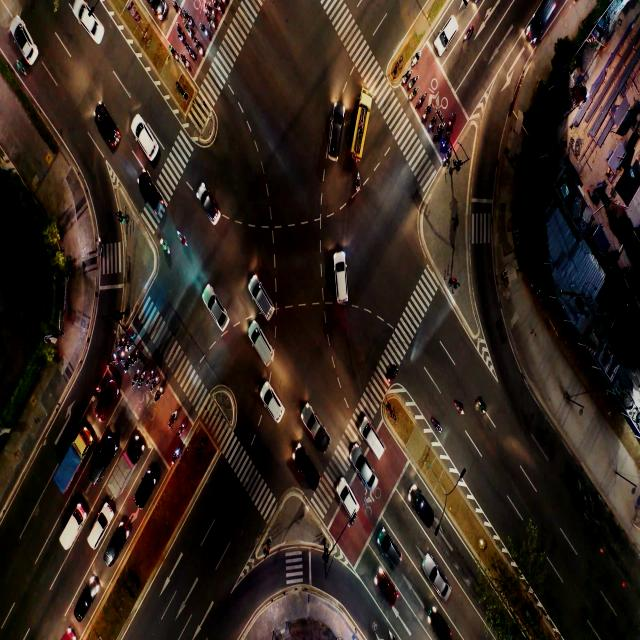bus: (354, 121, 366, 142)
car: (298, 455, 317, 488), (380, 540, 400, 567), (534, 6, 550, 32), (78, 584, 96, 607), (87, 18, 103, 42), (359, 463, 374, 488), (429, 570, 444, 592), (260, 292, 272, 319), (202, 195, 216, 217), (101, 119, 115, 141), (212, 302, 225, 325), (328, 128, 338, 157), (371, 432, 383, 456), (342, 489, 354, 512), (22, 32, 32, 59), (148, 189, 160, 211), (267, 396, 280, 416), (90, 453, 102, 474), (384, 582, 396, 602), (420, 501, 431, 521), (440, 24, 451, 44), (142, 474, 152, 496), (144, 131, 153, 155), (258, 340, 268, 361), (337, 276, 346, 298), (112, 533, 121, 552), (102, 396, 112, 413), (436, 622, 445, 636), (94, 522, 101, 536)
motorcycle: (159, 235, 169, 253), (454, 400, 464, 417), (478, 401, 486, 420), (178, 231, 187, 245), (432, 420, 442, 432), (353, 175, 360, 192), (464, 26, 471, 42), (16, 61, 25, 72), (390, 366, 397, 379), (170, 52, 178, 62), (180, 423, 186, 435), (175, 5, 181, 17), (412, 56, 418, 66), (172, 411, 178, 421), (435, 126, 441, 135), (157, 389, 162, 399), (218, 4, 223, 14), (183, 60, 190, 67), (449, 116, 454, 125), (121, 336, 126, 345), (98, 243, 102, 254), (174, 452, 178, 462), (127, 340, 131, 350), (120, 349, 124, 359), (186, 14, 191, 22), (204, 30, 208, 40), (410, 92, 416, 98), (190, 53, 195, 60), (141, 373, 145, 381), (198, 48, 202, 56), (404, 76, 409, 82), (425, 109, 429, 116), (419, 97, 423, 104), (210, 21, 214, 28), (446, 154, 450, 160), (150, 372, 154, 378), (112, 352, 115, 360), (444, 140, 447, 147), (432, 118, 435, 125), (210, 8, 213, 15), (179, 34, 182, 40), (156, 376, 158, 384), (411, 81, 414, 86), (135, 353, 138, 358), (188, 28, 190, 35), (135, 374, 138, 378), (128, 359, 130, 363)
truck: (67, 515, 77, 542), (67, 450, 76, 477), (316, 423, 326, 445), (117, 462, 127, 482)
